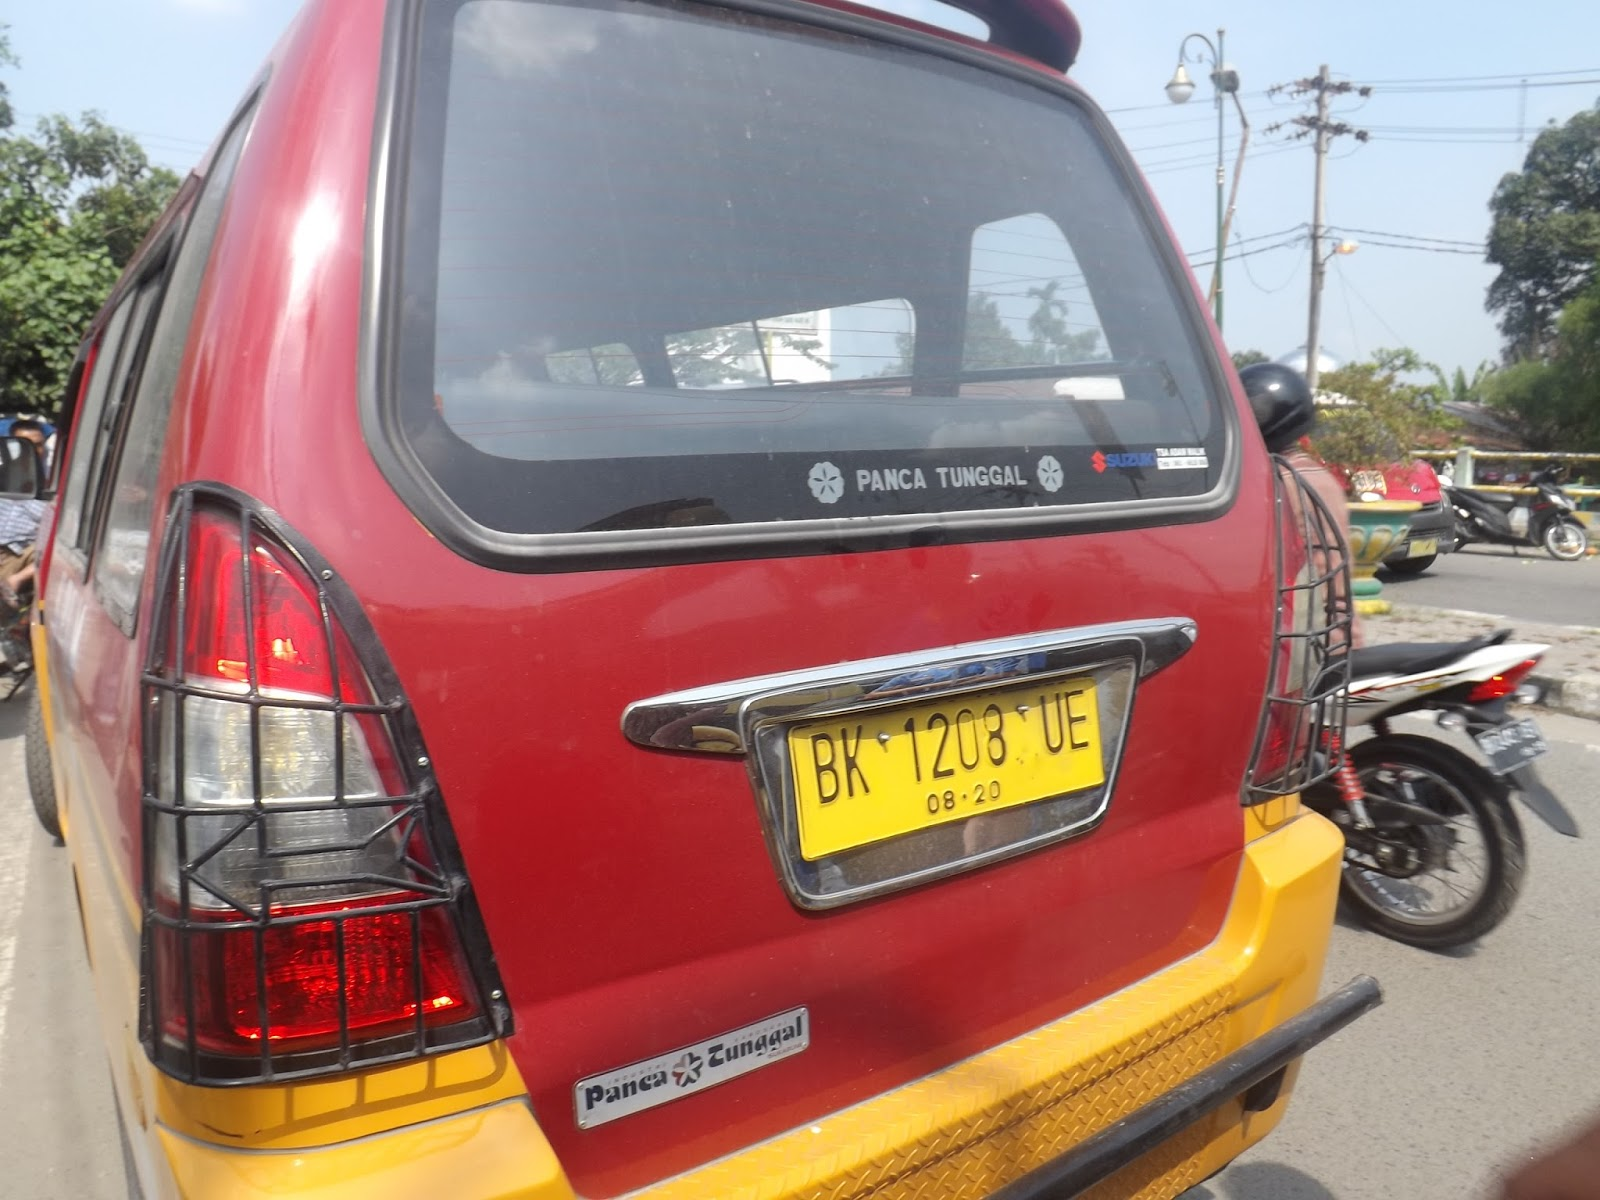plate: (793, 681, 1110, 831)
